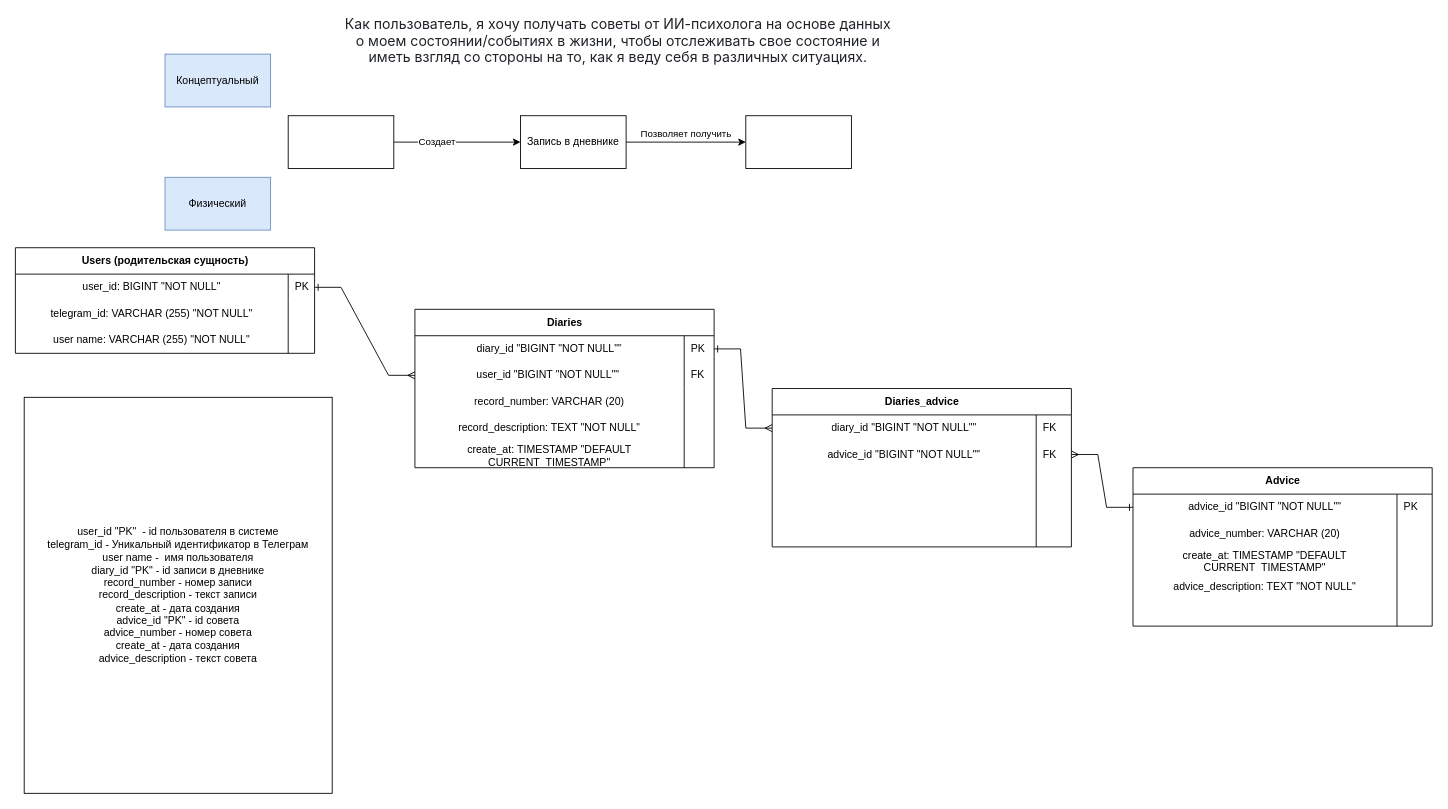
Some shapes in this 1448 by 809 pixel diagram are drawn without their labels. Each missing label, with the centre of its shape:
Пользователь: the point at 340,142
Совет: the point at 798,142
